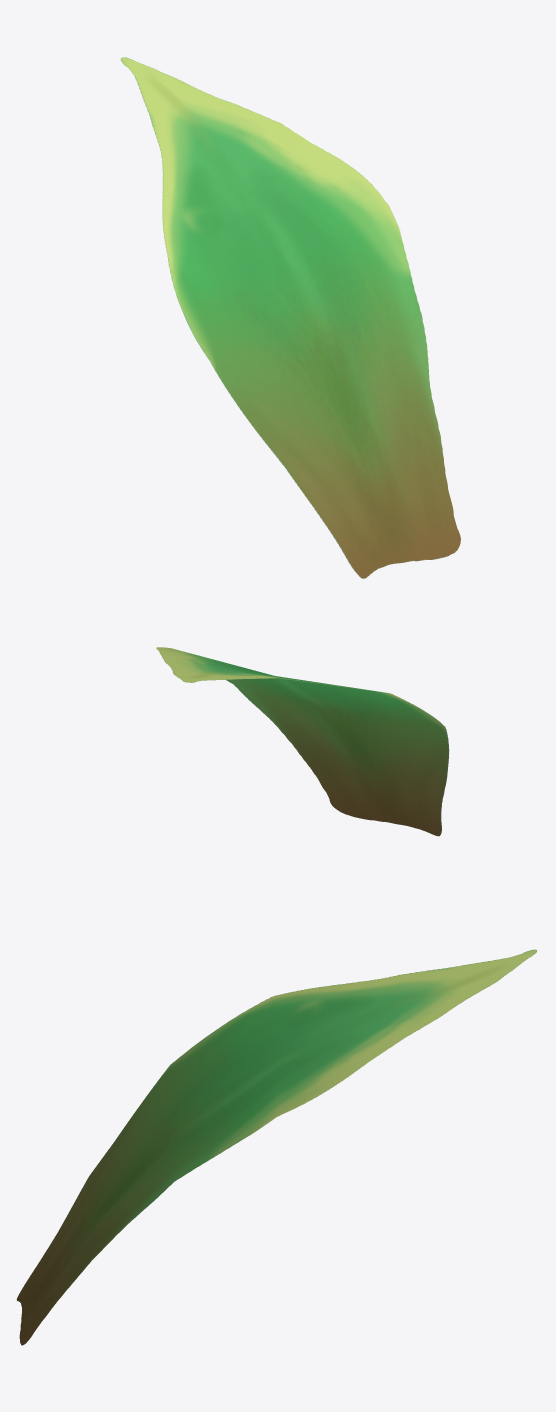
File: HojaG_3.fbx
3 views of the same model, one above another, from view 1: azimuth 30°, elevation 25°; view 2: azimuth 150°, elevation 25°; view 3: azimuth 270°, elevation 25° (orthographic). The views are drawn at different scales.
Parts seen in each view (by area): view 1: HojaG_3; view 2: HojaG_3; view 3: HojaG_3.
Boxes of the visible parts, left/top/right/bottom form: HojaG_3: left=120, top=57, right=460, bottom=578; HojaG_3: left=156, top=647, right=449, bottom=836; HojaG_3: left=16, top=949, right=536, bottom=1345.
Bounding box in the file's own units: 110 × 128 × 167.
1 material, 1 textured.
